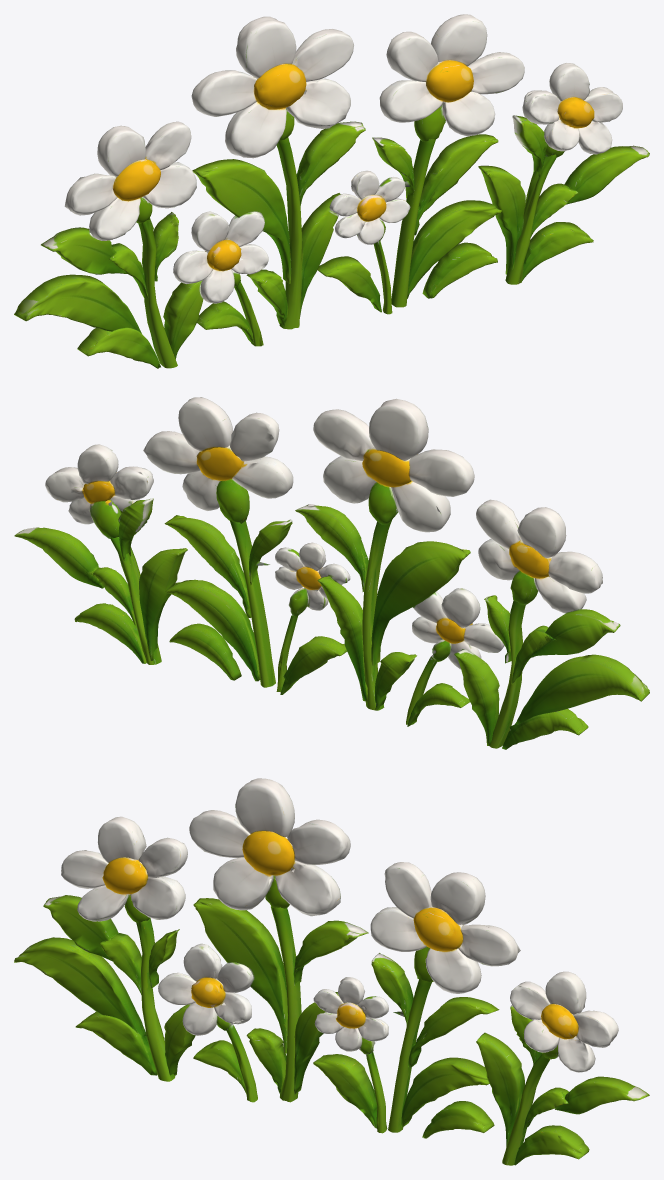
The model's file is Meshy_AI_Daisy_Meadow_1024231155_texture.fbx.
3 views of the same model, one above another, from view 1: azimuth 30°, elevation 25°; view 2: azimuth 150°, elevation 25°; view 3: azimuth 330°, elevation 25° (orthographic).
Parts seen in each view (by area): view 1: Mesh_0; view 2: Mesh_0; view 3: Mesh_0.
Part boxes in pixels (x1,y1,x2,y2): Mesh_0: [14, 14, 649, 368]; Mesh_0: [14, 397, 649, 749]; Mesh_0: [14, 778, 649, 1165].
Bounding box in the file's own units: 95.56 × 46.63 × 5.96.
1 material, 1 textured.
